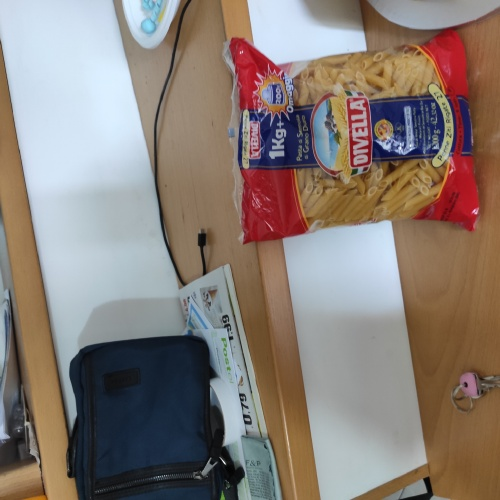pasta: (243, 62, 479, 232)
